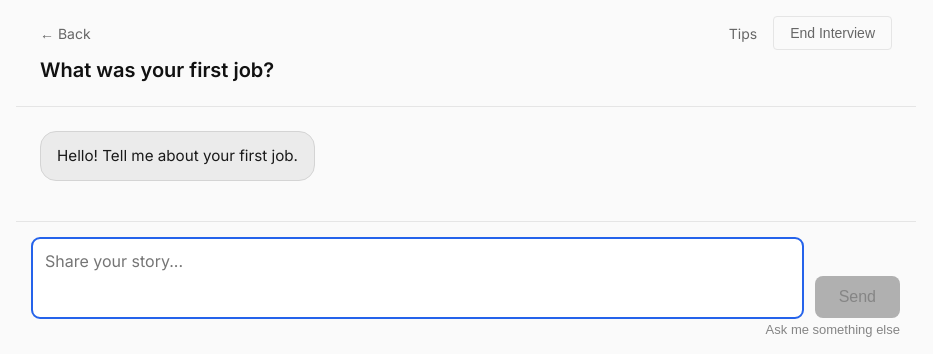
Test: InterviewSession › End Interview button › shows success message after completion
Click the button "End Interview" at (833, 33), box [773,16,892,50]
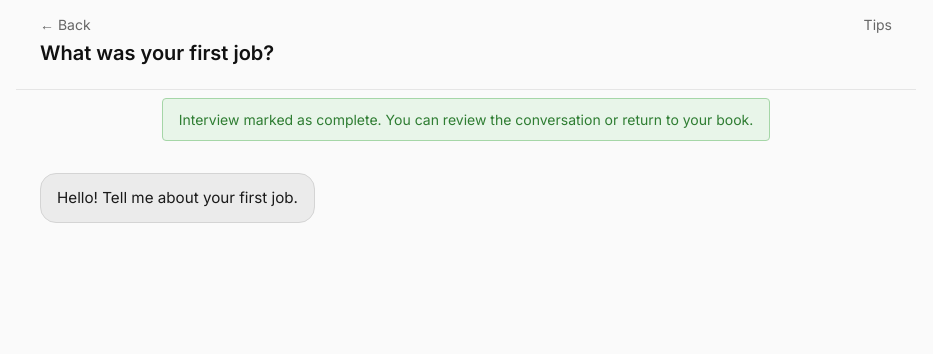
Now the text "Interview marked as complete" is shown, box [179,111,753,128]
